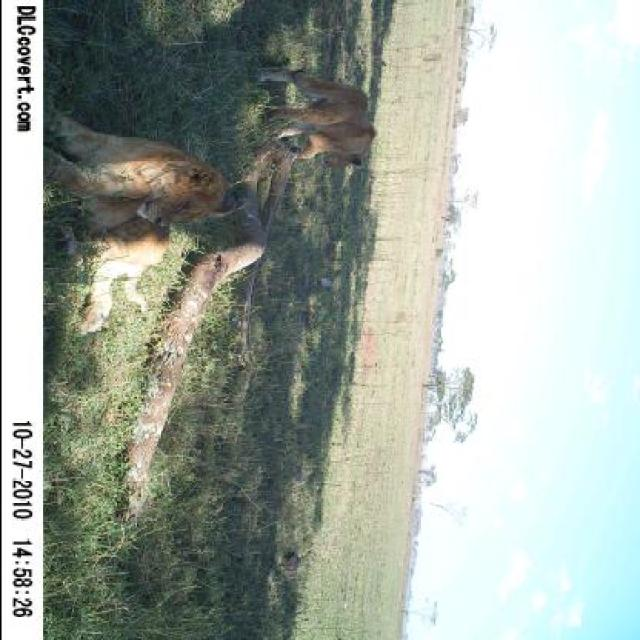Lion: (37, 102, 234, 350), (254, 46, 386, 194)
